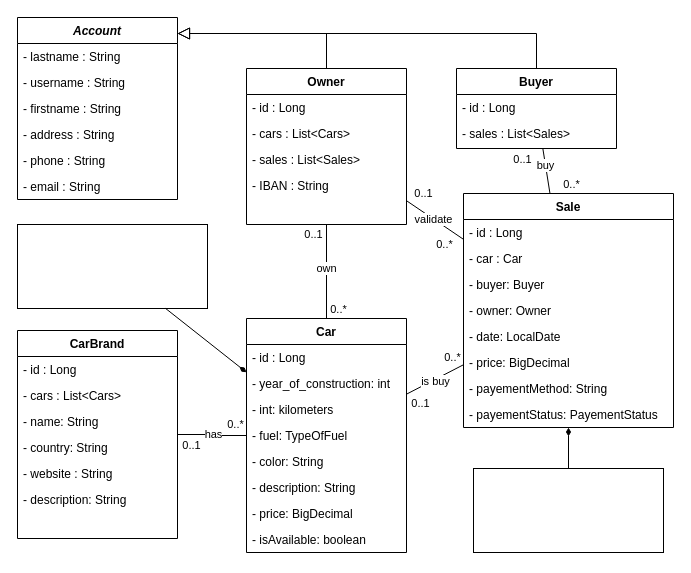
Image size: 691x573. Some labels were removed from this diagram. Here are the shapes that lost their labels. From the top down, the centre of each, then its label:
At point 112,266: "<<Enumeration>> TypeOfFuel GASOLINE, DIESEL, ELECTRIC, HYBRID".
At point 568,510: "<<Enumeration>> PayementStatus ACCEPTED, PENDING, REFUSED".
